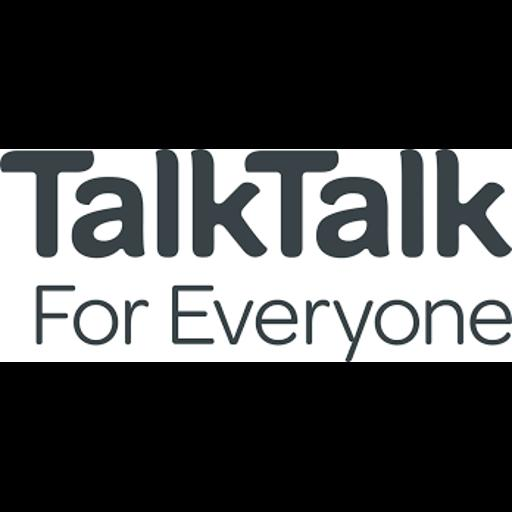TalkTalk Communications: (0, 149, 512, 362)
